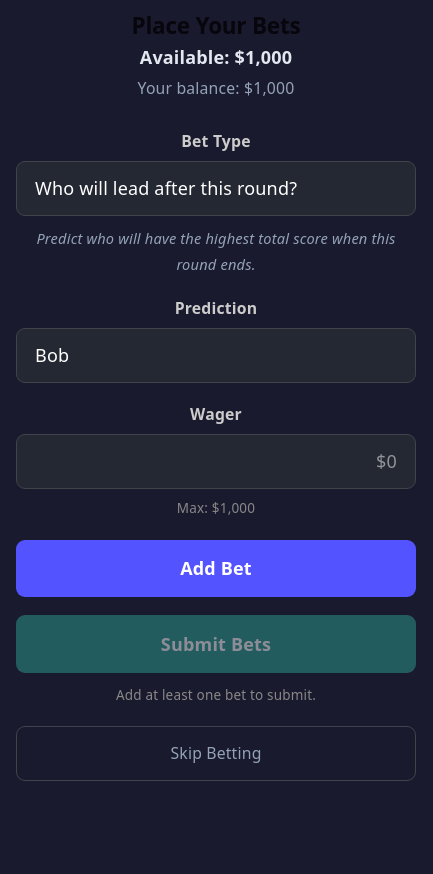
it: PlayerBettingPanel › Cumulative wager constraint enforcement (Req 4.3) › displays remaining balance accurately after placing bets
Expected: the text "Available: $1,000" is shown, [140,45,292,69]
# Place first bet: $400
Type "400" into the field labelled "Wager". click: (216, 461)
box: [16,434,416,489]
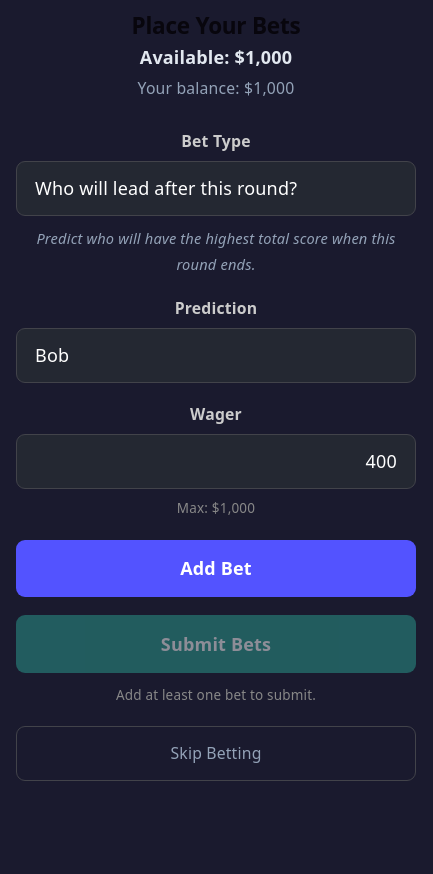
Click the button "Add Bet". click: (216, 568)
box: [16,540,416,597]
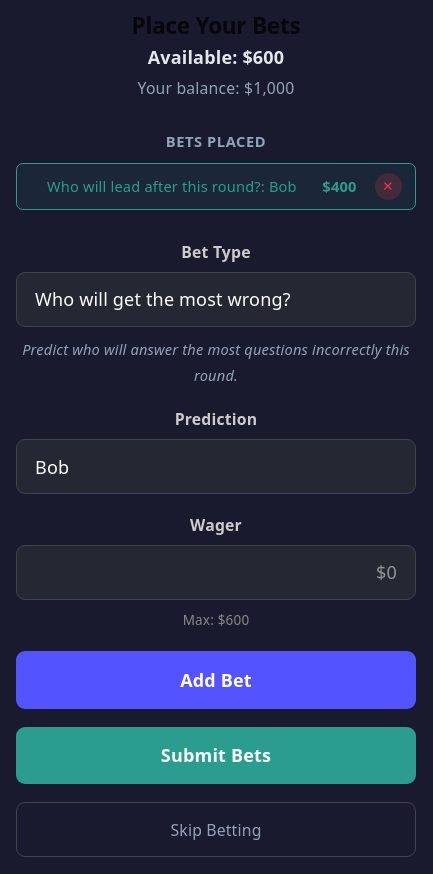
Expected: the text "Available: $600" is shown, [148,45,284,69]
